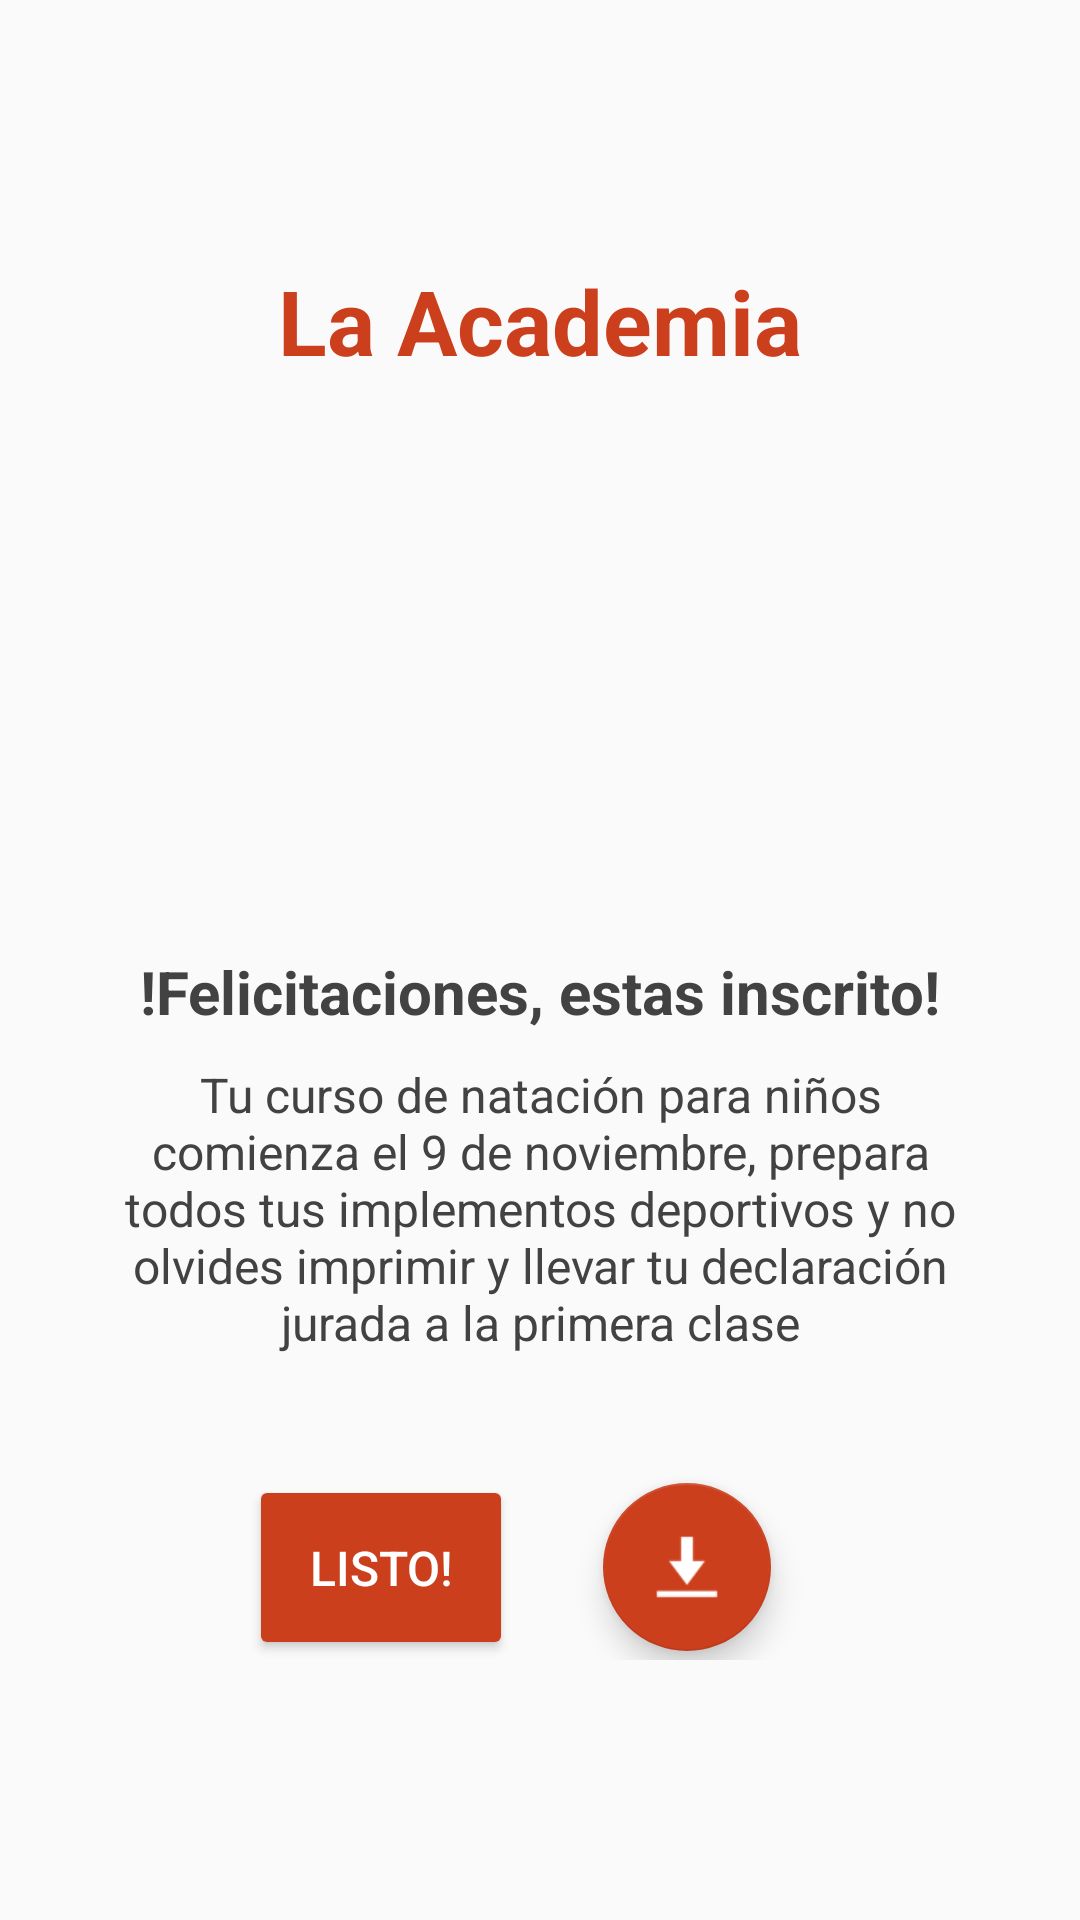

Icon bounding boxes for this 1080×1920 phone screenshot, format (x1, y1, x2, y2):
descargar: (603, 1483, 771, 1651)
